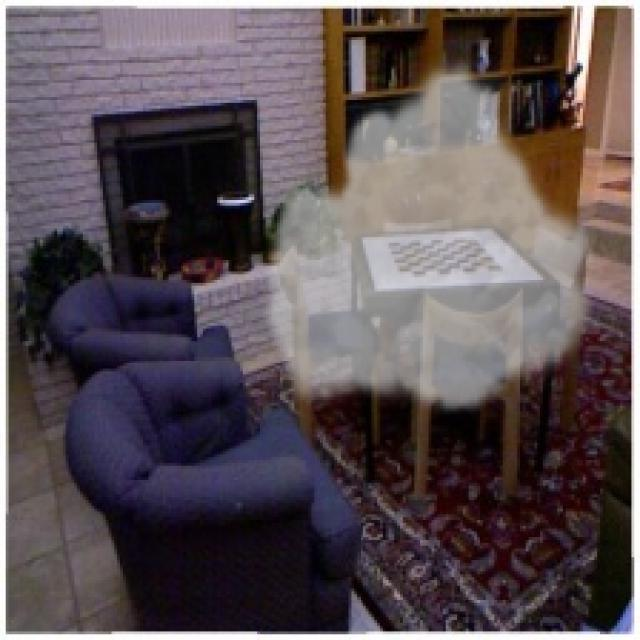Smoke: (257, 57, 603, 417)
